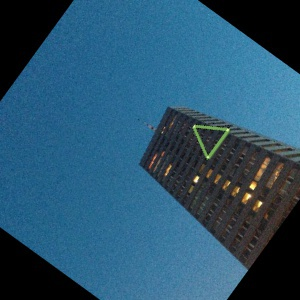triangle: (189, 121, 231, 161)
